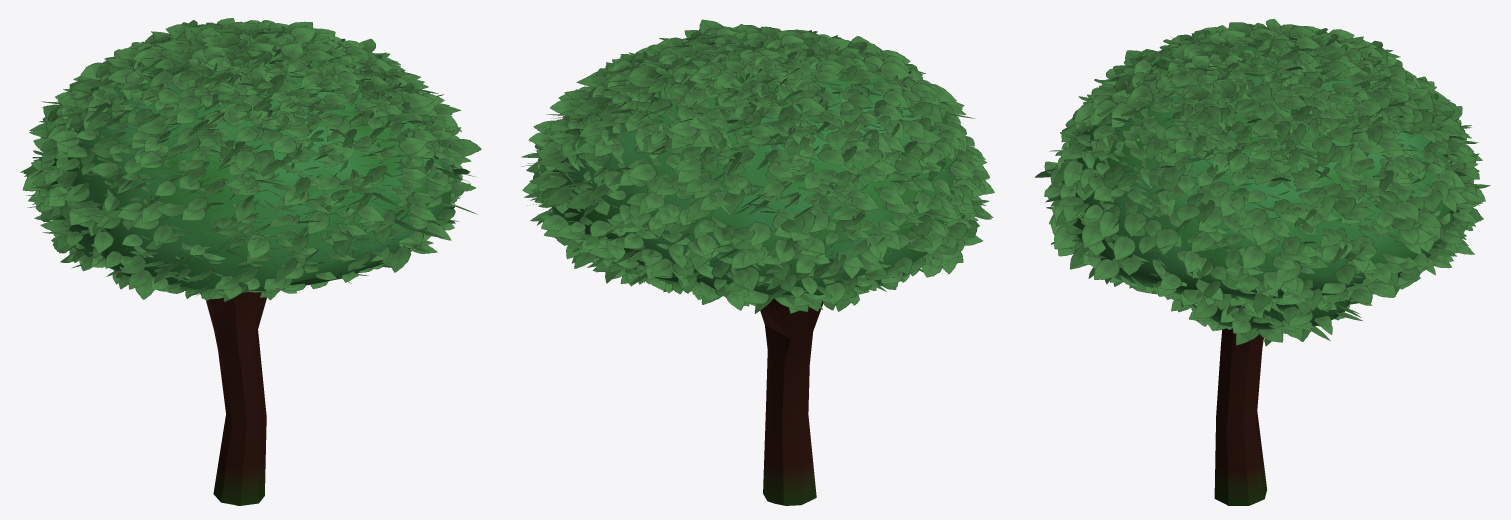
Rendered from Drzewo3.fbx.
3 renders of one model, left to right at view 1: azimuth 30°, elevation 25°; view 2: azimuth 150°, elevation 25°; view 3: azimuth 270°, elevation 25°, orthographic. The views are drawn at different scales.
Parts seen in each view (by area): view 1: Cube.022; view 2: Cube.022; view 3: Cube.022.
Part boxes in pixels (<box>): Cube.022: <box>20,18,481,505</box>; Cube.022: <box>521,19,994,505</box>; Cube.022: <box>1035,19,1490,505</box>.
Bounding box in the file's own units: 682 × 695 × 659.
1 material, 1 textured.
